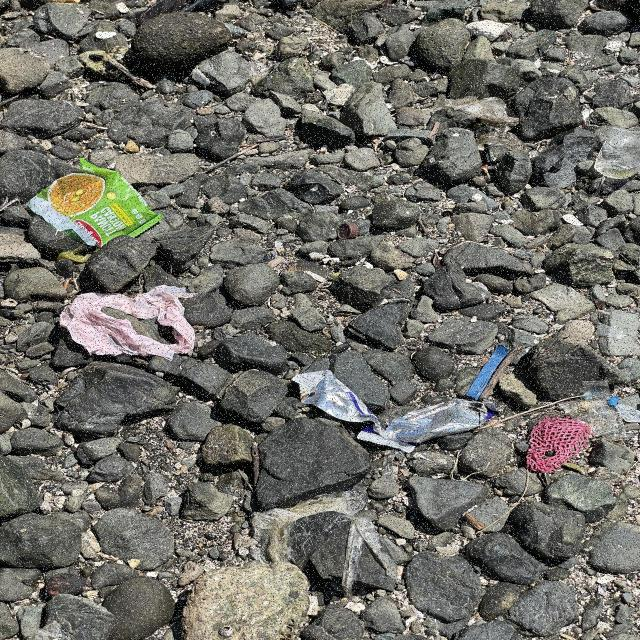plastic_waste: (26, 165, 164, 253), (60, 290, 200, 362), (357, 399, 493, 451), (292, 373, 387, 430), (465, 346, 514, 401)
